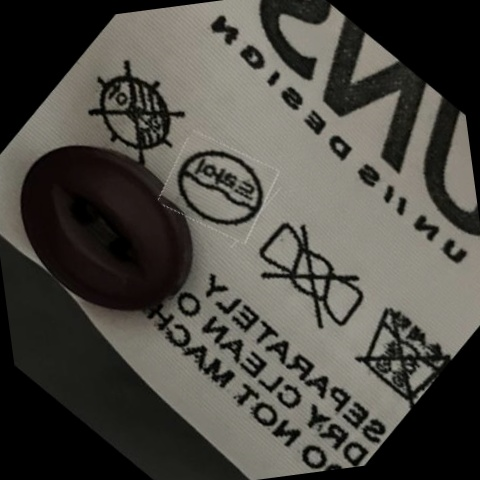DN_dry: (85, 61, 187, 165)
DN_wring: (253, 221, 369, 336)
dry_clean: (173, 140, 265, 236)
hand_wash: (351, 297, 448, 403)
